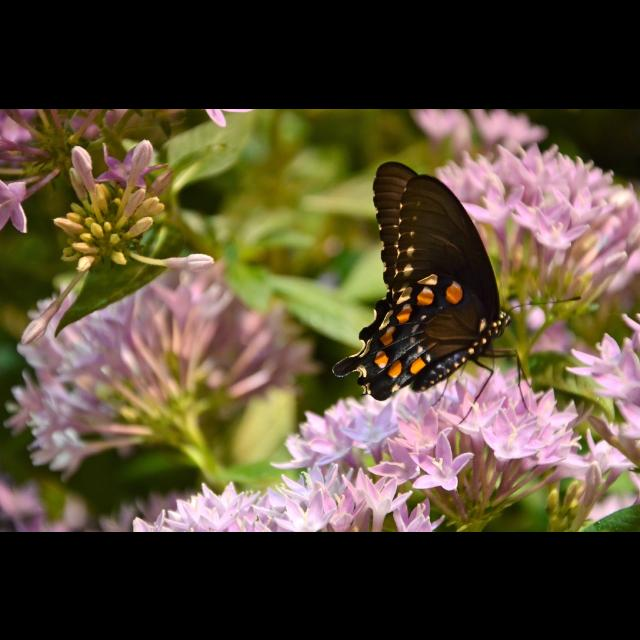Flower: (1, 109, 640, 532), (464, 132, 630, 372)
